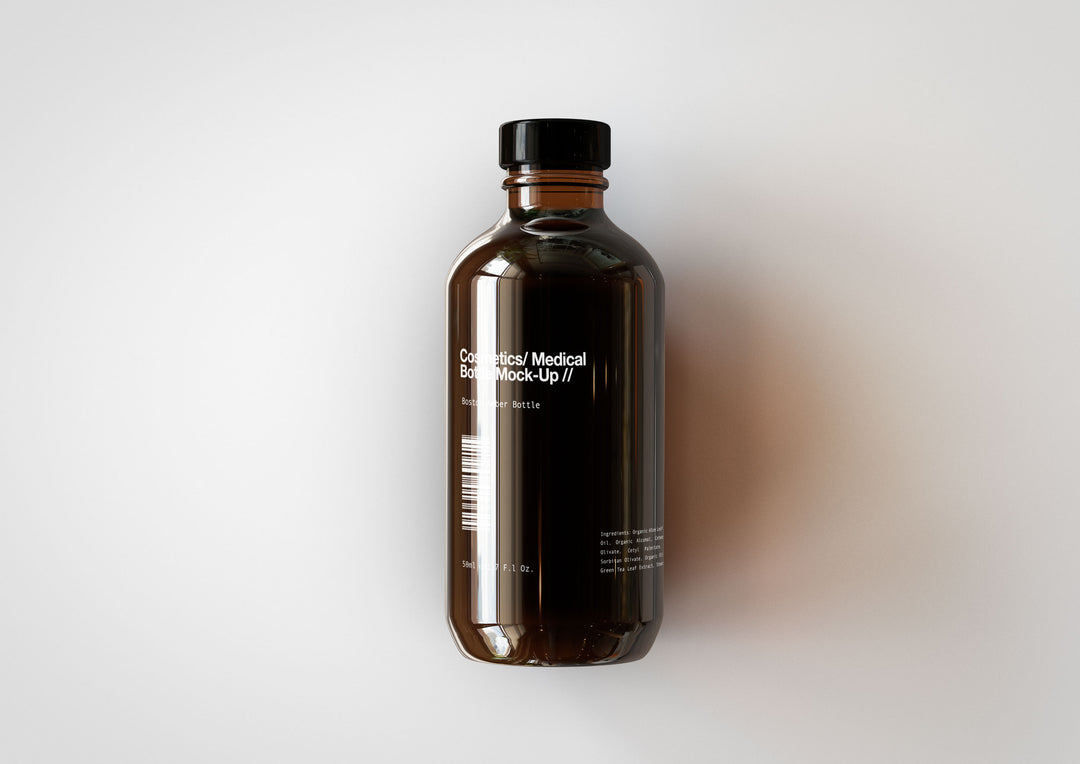Medicine: (408, 92, 720, 682)
